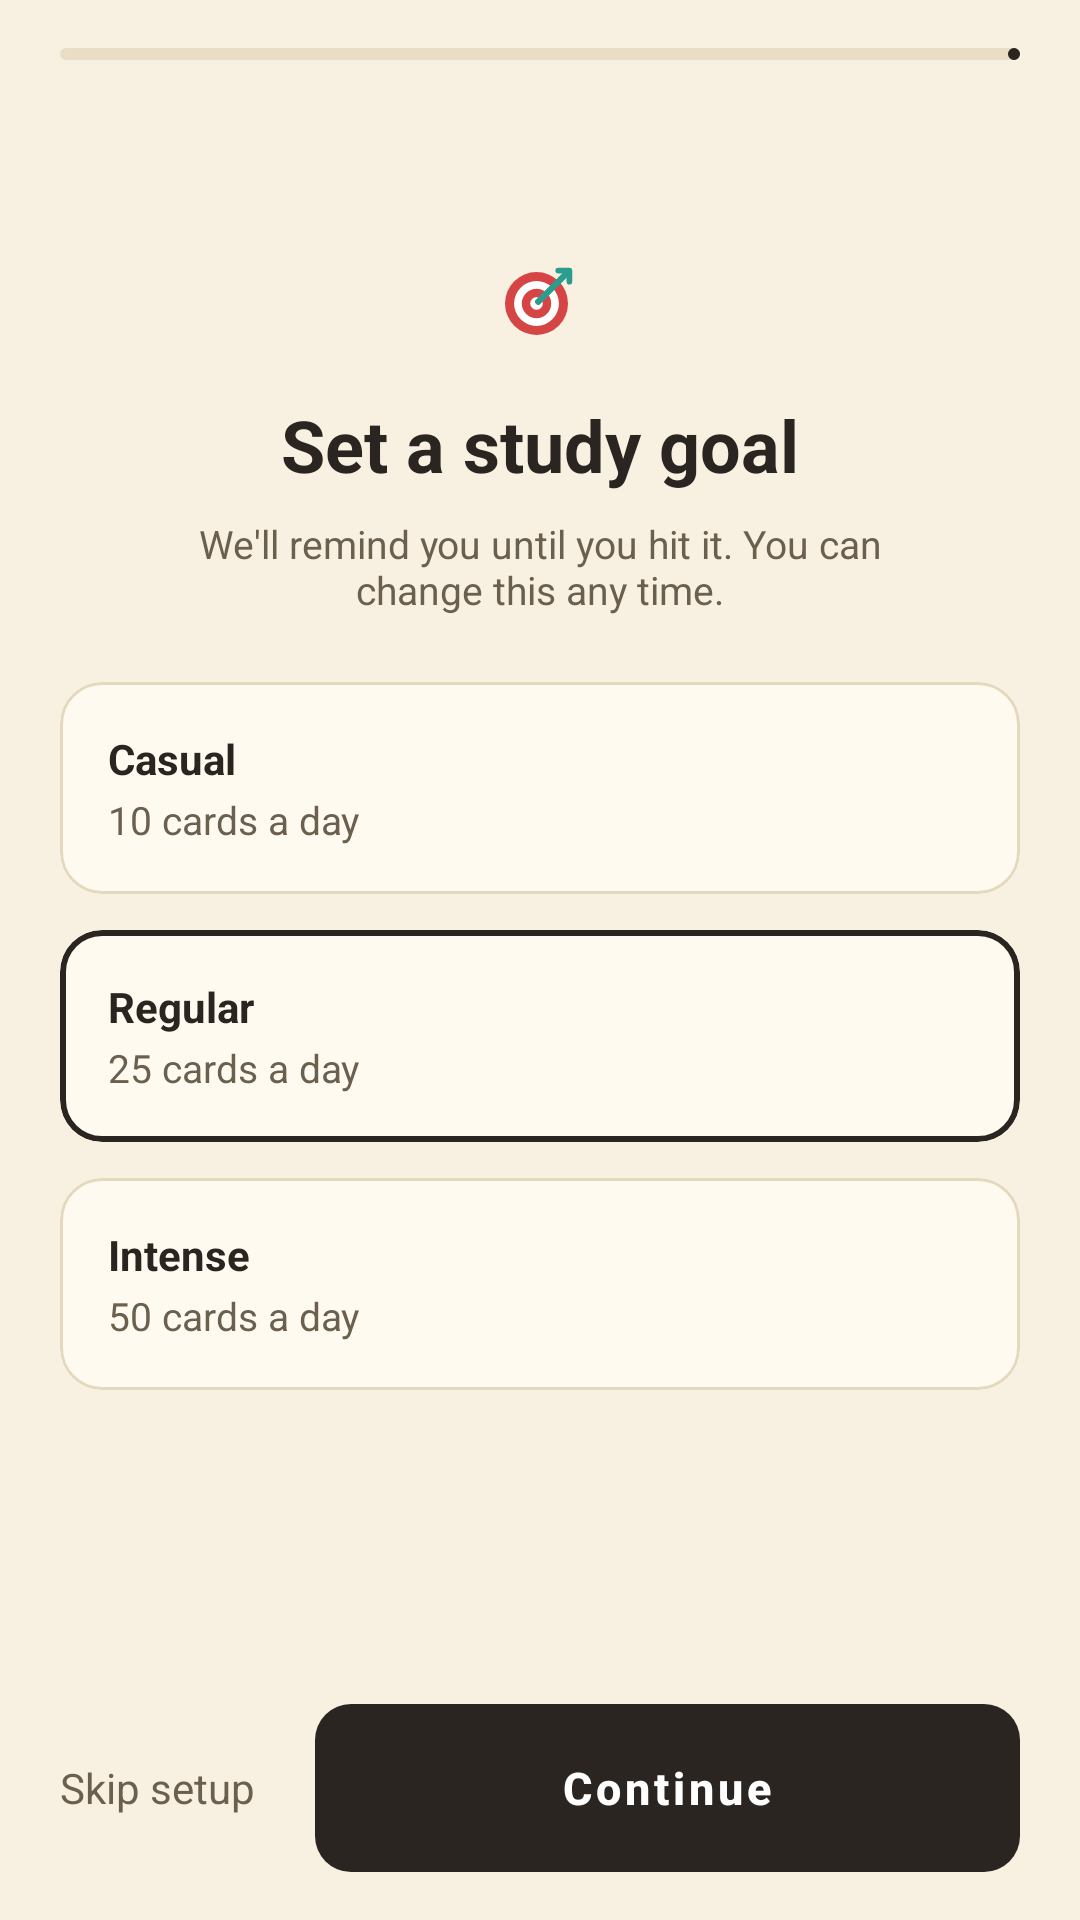

Screen size 1080 x 1920. Icon name, then its box in pixels as (x1, y1, x2, y2):
setup goal: (505, 267, 573, 335)
